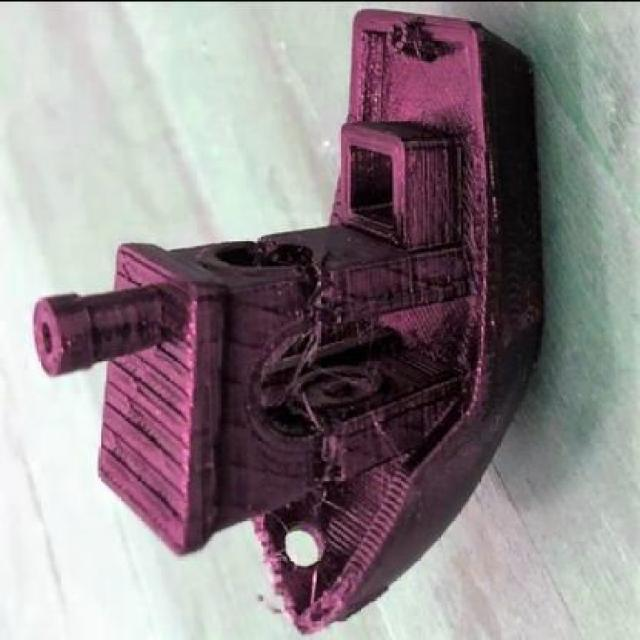spaghetti: (279, 323, 338, 449)
